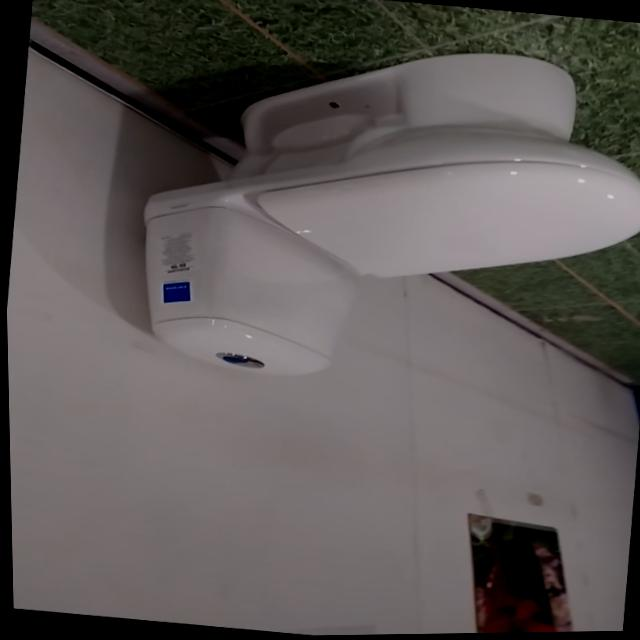toilet: (121, 17, 640, 417)
